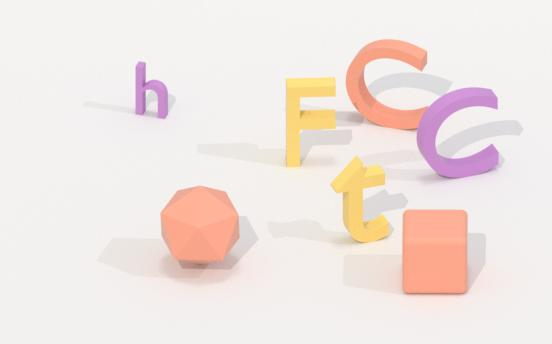F: (281, 74, 343, 168)
c: (409, 86, 515, 183), (341, 37, 440, 134)
dagiac: (156, 185, 244, 269)
h: (131, 57, 175, 121)
hop: (397, 206, 474, 298)
t: (326, 159, 401, 246)
